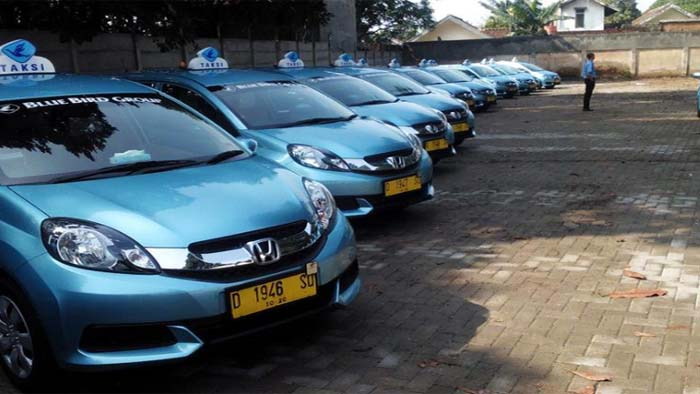plate: (232, 271, 320, 315)
